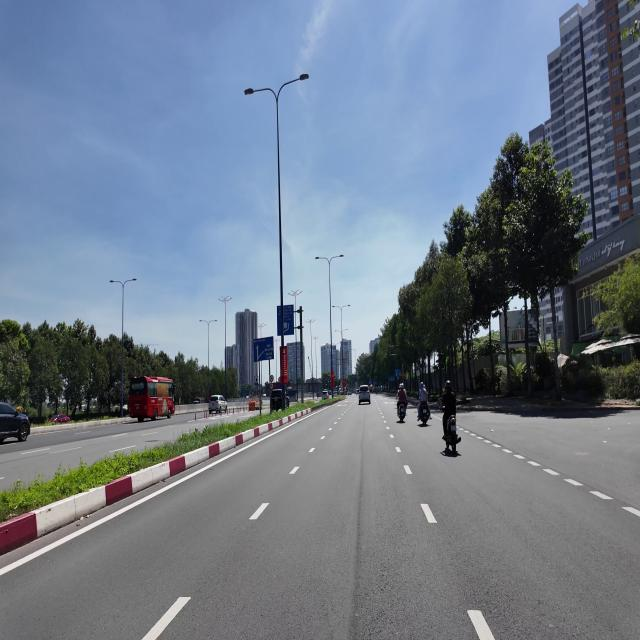car: (0, 403, 30, 441), (209, 395, 227, 414), (270, 389, 282, 410), (359, 385, 370, 404), (322, 390, 329, 399)
motorcycle: (446, 416, 461, 453), (418, 402, 431, 426), (397, 402, 405, 422)
